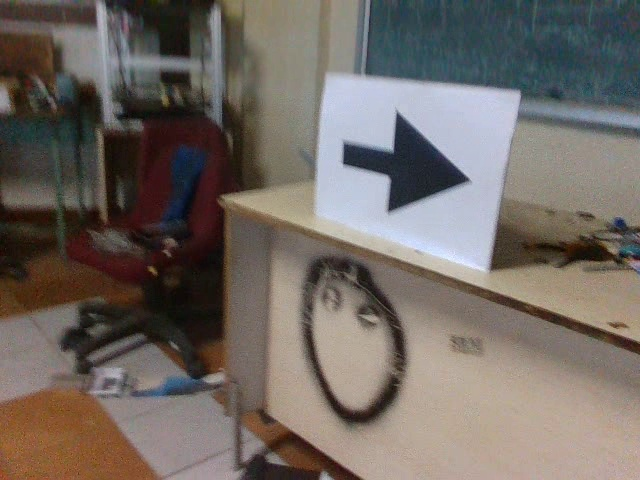Right: (336, 99, 480, 222)
